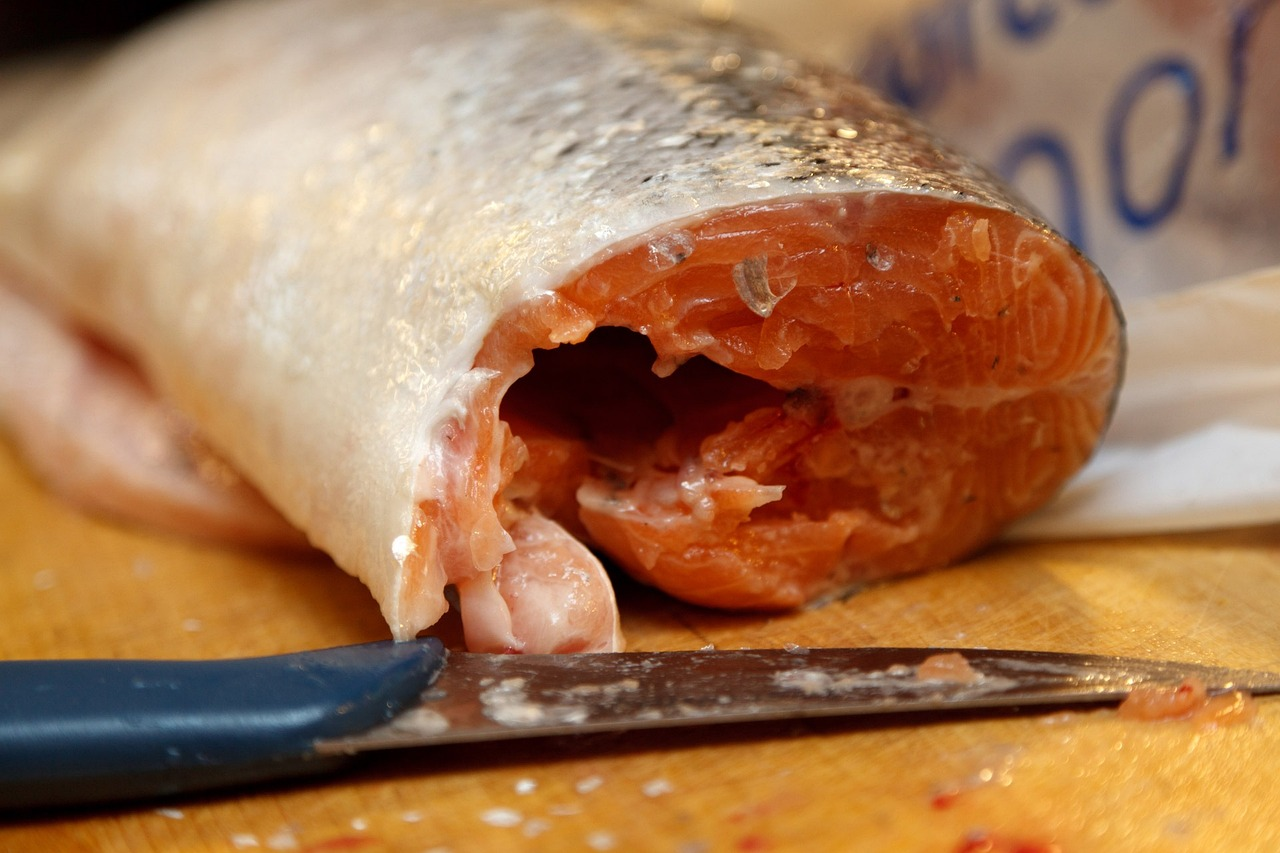knife: (0, 637, 1280, 822)
